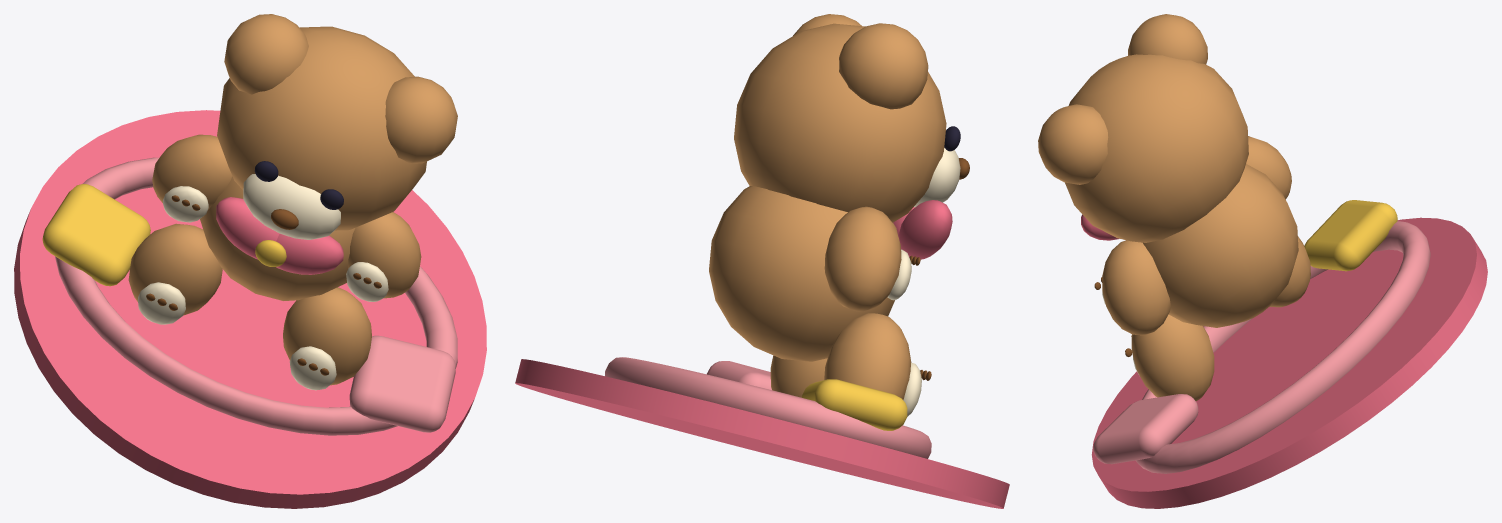
File: toy-corner.glb
3 views of the same model, side by side, from view 1: azimuth 30°, elevation 25°; view 2: azimuth 150°, elevation 25°; view 3: azimuth 270°, elevation 25° (orthographic). The views are drawn at different scales.
Size of the model in its own units: 1.74 by 1.87 by 1.77.
